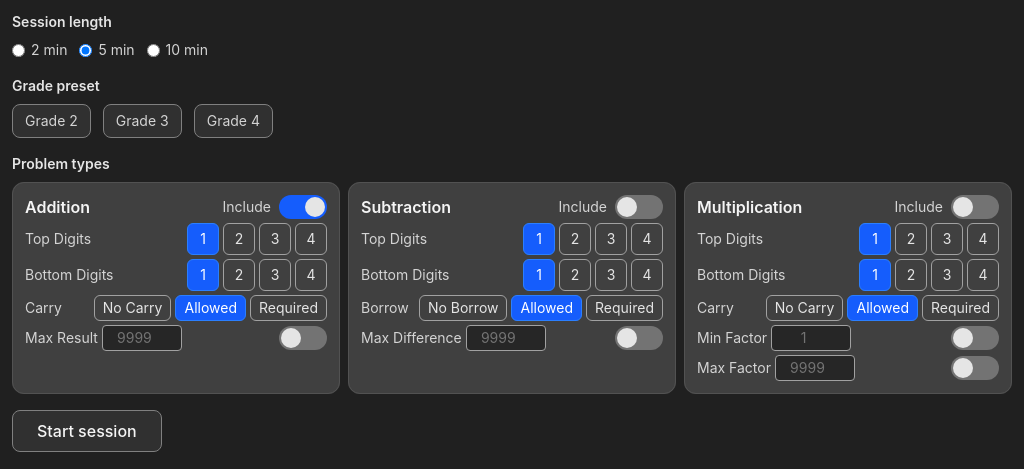
Test: SetupView (MGP6-01) › disables Start when no problem type is enabled
This screenshot has width=1024, height=469.
Expected: the button "Start session" is enabled, [12, 410, 162, 452]
Note: Uncheck the only type that is enabled by default.
Click the switch labelled "Include" next to "Addition": point(247, 206) [223, 195, 327, 219]
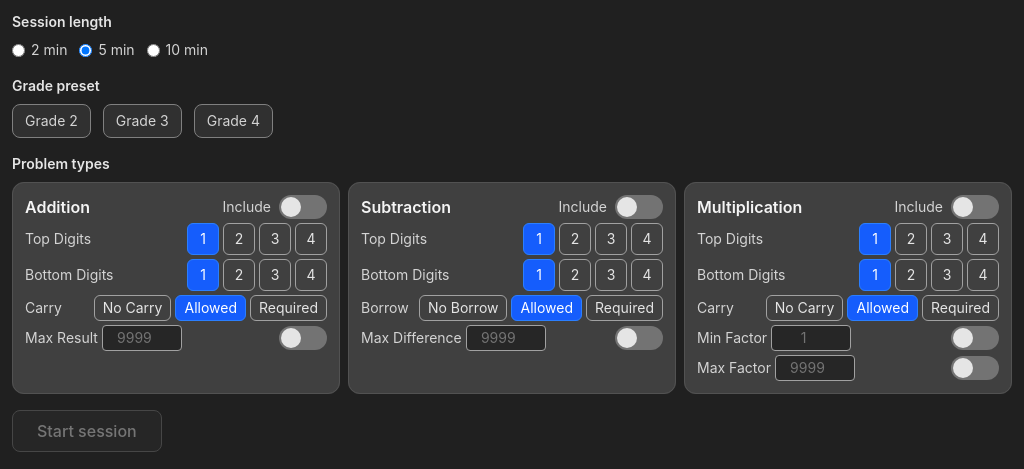
Result: the button "Start session" is disabled at [12, 410, 162, 452]
